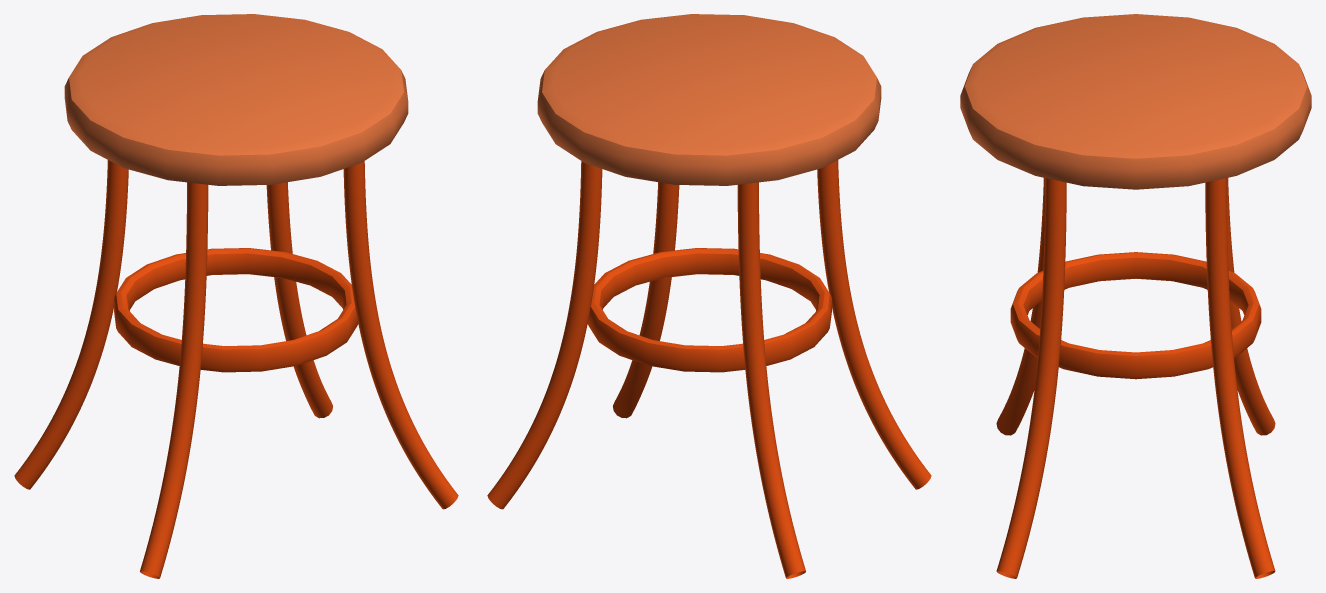
Rendered from SM_tabouret.fbx.
3 renders of one model, left to right at view 1: azimuth 30°, elevation 25°; view 2: azimuth 150°, elevation 25°; view 3: azimuth 270°, elevation 25°, orthographic.
Parts seen in each view (by area): view 1: Cylinder.008, NurbsPath.003, Cylinder.009; view 2: Cylinder.008, NurbsPath.003, Cylinder.009; view 3: Cylinder.008, NurbsPath.003, Cylinder.009.
Part boxes in pixels (x1=…): Cylinder.008: x1=64, y1=14, x2=408, y2=185; NurbsPath.003: x1=14, y1=160, x2=458, y2=578; Cylinder.009: x1=114, y1=248, x2=358, y2=372; Cylinder.008: x1=537, y1=14, x2=881, y2=185; NurbsPath.003: x1=487, y1=160, x2=931, y2=578; Cylinder.009: x1=587, y1=248, x2=831, y2=372; Cylinder.008: x1=960, y1=14, x2=1311, y2=189; NurbsPath.003: x1=996, y1=178, x2=1275, y2=578; Cylinder.009: x1=1010, y1=252, x2=1261, y2=379.
Size of the model in its own units: 78.35 by 98.89 by 74.21.
